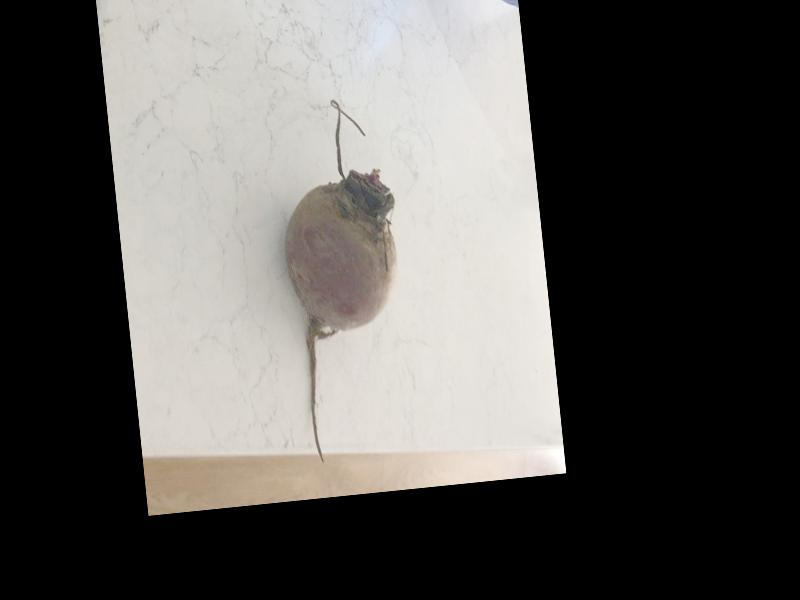Beet: (271, 95, 418, 468)
